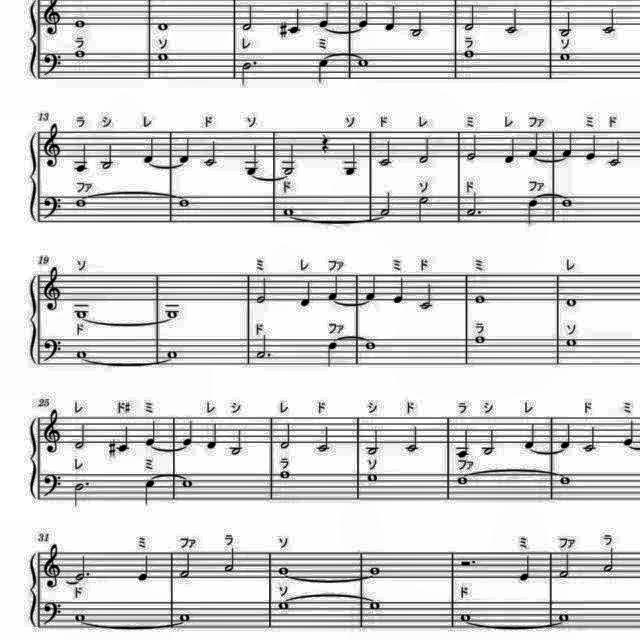Bass-clef: (40, 337, 64, 367), (41, 51, 64, 80), (43, 193, 65, 223), (41, 470, 64, 498), (41, 599, 64, 627)
Diez: (276, 20, 290, 42), (106, 440, 118, 460)
Full-note: (163, 304, 183, 320), (365, 598, 383, 614), (72, 306, 90, 322), (69, 46, 87, 60), (71, 609, 89, 623), (175, 612, 192, 626), (155, 21, 173, 34), (72, 16, 88, 30), (562, 295, 578, 309), (354, 57, 370, 71), (460, 46, 476, 60), (557, 474, 573, 488), (556, 611, 572, 625), (276, 599, 292, 613), (72, 196, 88, 210), (472, 292, 490, 304), (367, 564, 385, 576), (470, 334, 488, 346), (72, 348, 90, 360), (164, 348, 182, 360), (364, 471, 380, 484), (156, 51, 172, 64), (175, 198, 192, 210), (454, 476, 471, 488), (558, 198, 574, 210), (276, 564, 292, 576), (180, 478, 196, 490), (457, 612, 473, 624), (362, 340, 378, 352), (277, 468, 293, 480), (280, 206, 296, 218), (564, 338, 580, 350), (558, 52, 572, 64)
Half-dot: (70, 550, 94, 582), (70, 481, 92, 512), (240, 59, 260, 89), (252, 334, 272, 364), (465, 191, 483, 219)
Half-note: (278, 143, 298, 177), (252, 274, 270, 306), (377, 138, 395, 170), (415, 193, 433, 224), (480, 427, 498, 458), (607, 140, 625, 170), (240, 2, 258, 32), (417, 280, 435, 310), (176, 551, 194, 581), (405, 423, 423, 453), (315, 424, 333, 454), (202, 138, 220, 168), (602, 5, 620, 35), (363, 427, 381, 457), (503, 5, 521, 35), (581, 425, 599, 455), (417, 136, 433, 168), (230, 426, 247, 456), (409, 10, 427, 38), (462, 1, 478, 32), (558, 7, 574, 38), (278, 421, 294, 452), (100, 141, 116, 171), (464, 132, 480, 162), (600, 546, 616, 576), (558, 551, 574, 581), (72, 423, 88, 453), (378, 190, 394, 218), (222, 546, 238, 574)
Half-rest: (456, 556, 479, 570)
Quarter-note: (340, 144, 360, 180), (242, 143, 262, 177), (70, 142, 90, 176), (454, 428, 472, 460), (621, 416, 639, 448), (140, 477, 158, 508), (204, 420, 220, 452), (136, 552, 152, 584), (502, 134, 518, 166), (390, 274, 406, 306), (175, 135, 192, 165), (383, 1, 399, 32), (115, 425, 131, 455), (142, 419, 158, 449), (299, 278, 315, 308), (518, 554, 534, 584), (362, 272, 378, 302), (528, 130, 544, 160), (180, 417, 196, 447), (328, 273, 344, 303), (558, 421, 574, 451), (288, 5, 304, 35), (326, 339, 342, 369), (355, 0, 372, 28), (522, 422, 538, 451), (316, 0, 332, 28), (560, 130, 576, 158), (140, 136, 156, 164), (316, 58, 332, 86), (585, 133, 599, 163), (528, 197, 542, 227)
Quarter-rest: (318, 132, 332, 156)
Treble-clef: (42, 121, 66, 171), (42, 264, 66, 314), (42, 406, 66, 456), (42, 542, 66, 590)
